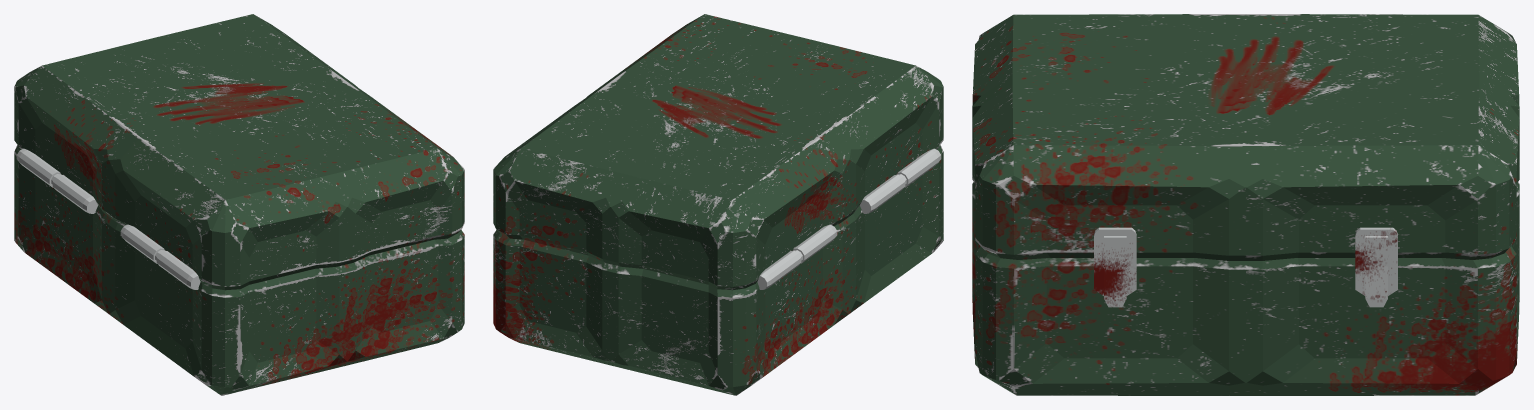
Rendered from Mili-Box-Shut.fbx.
3 views of the same model, side by side, from view 1: azimuth 30°, elevation 25°; view 2: azimuth 150°, elevation 25°; view 3: azimuth 270°, elevation 25° (orthographic). The views are drawn at different scales.
Parts seen in each view (by area): view 1: joined; view 2: joined; view 3: joined.
Boxes of the visible parts, x1=… form: joined: x1=14, y1=14, x2=464, y2=395; joined: x1=493, y1=14, x2=943, y2=395; joined: x1=972, y1=14, x2=1519, y2=395.
Bounding box in the file's own units: 287 × 200 × 399.
3 materials, 3 textured.
